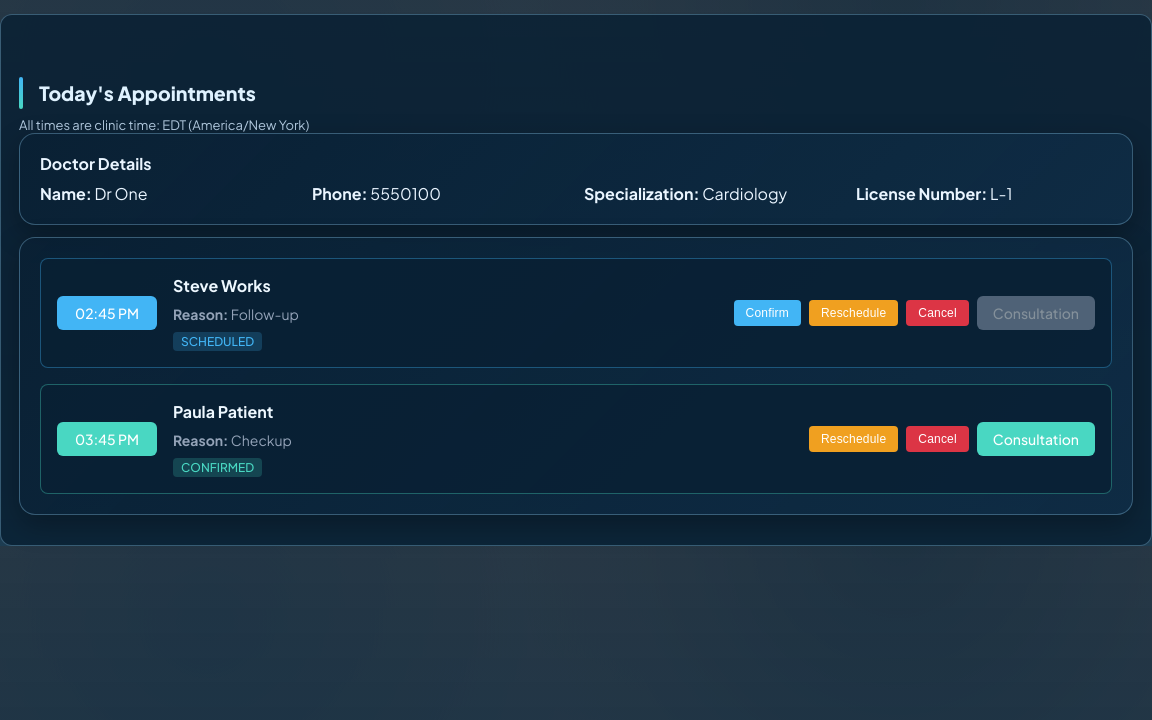
Scenario: TodayAppointmentsPage › cancels after confirmation and refreshes the list
The width and height of the screenshot is (1152, 720).
Click the button "Cancel" in the row of "Follow-up".
click(938, 313)  # box [906,300,969,326]
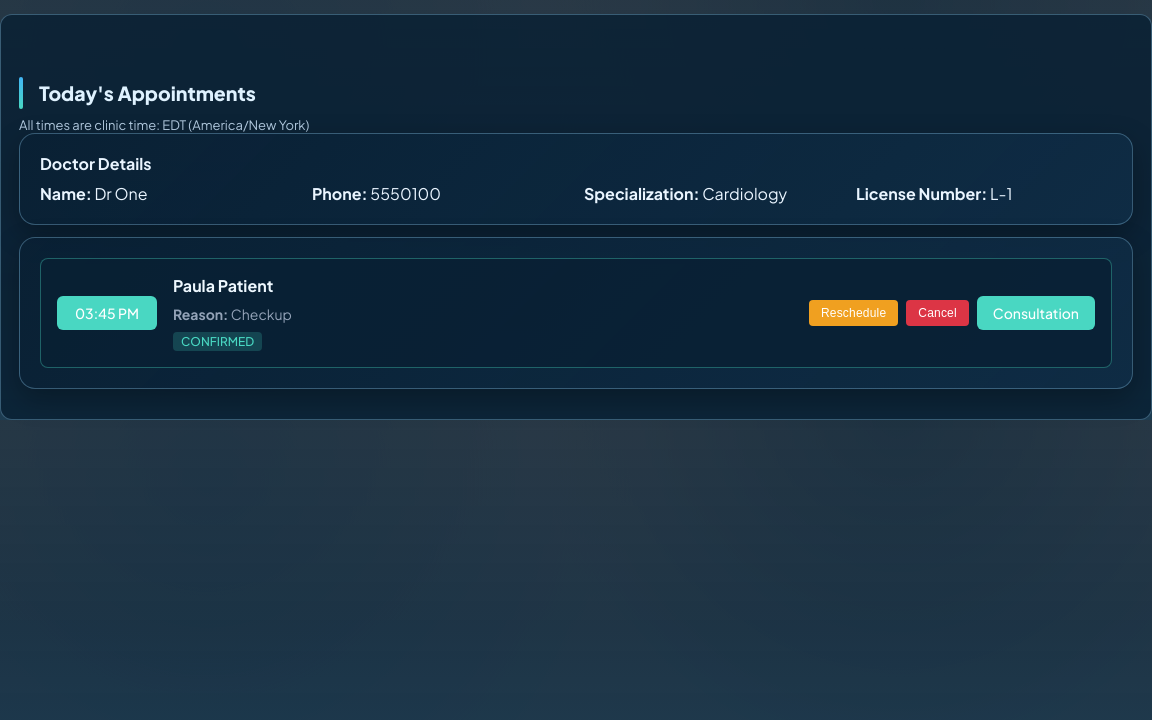
Expected: the heading "Paula Patient" is shown, [173,275,273,296]
Expected: the heading "Steve Works" is gone
